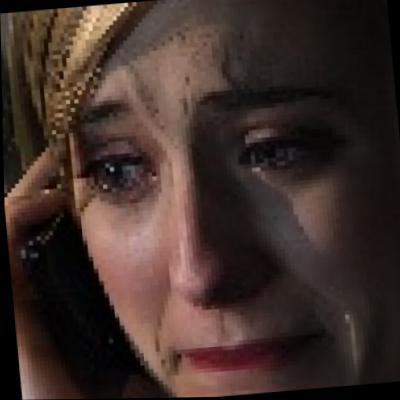sad: (57, 22, 400, 399)
